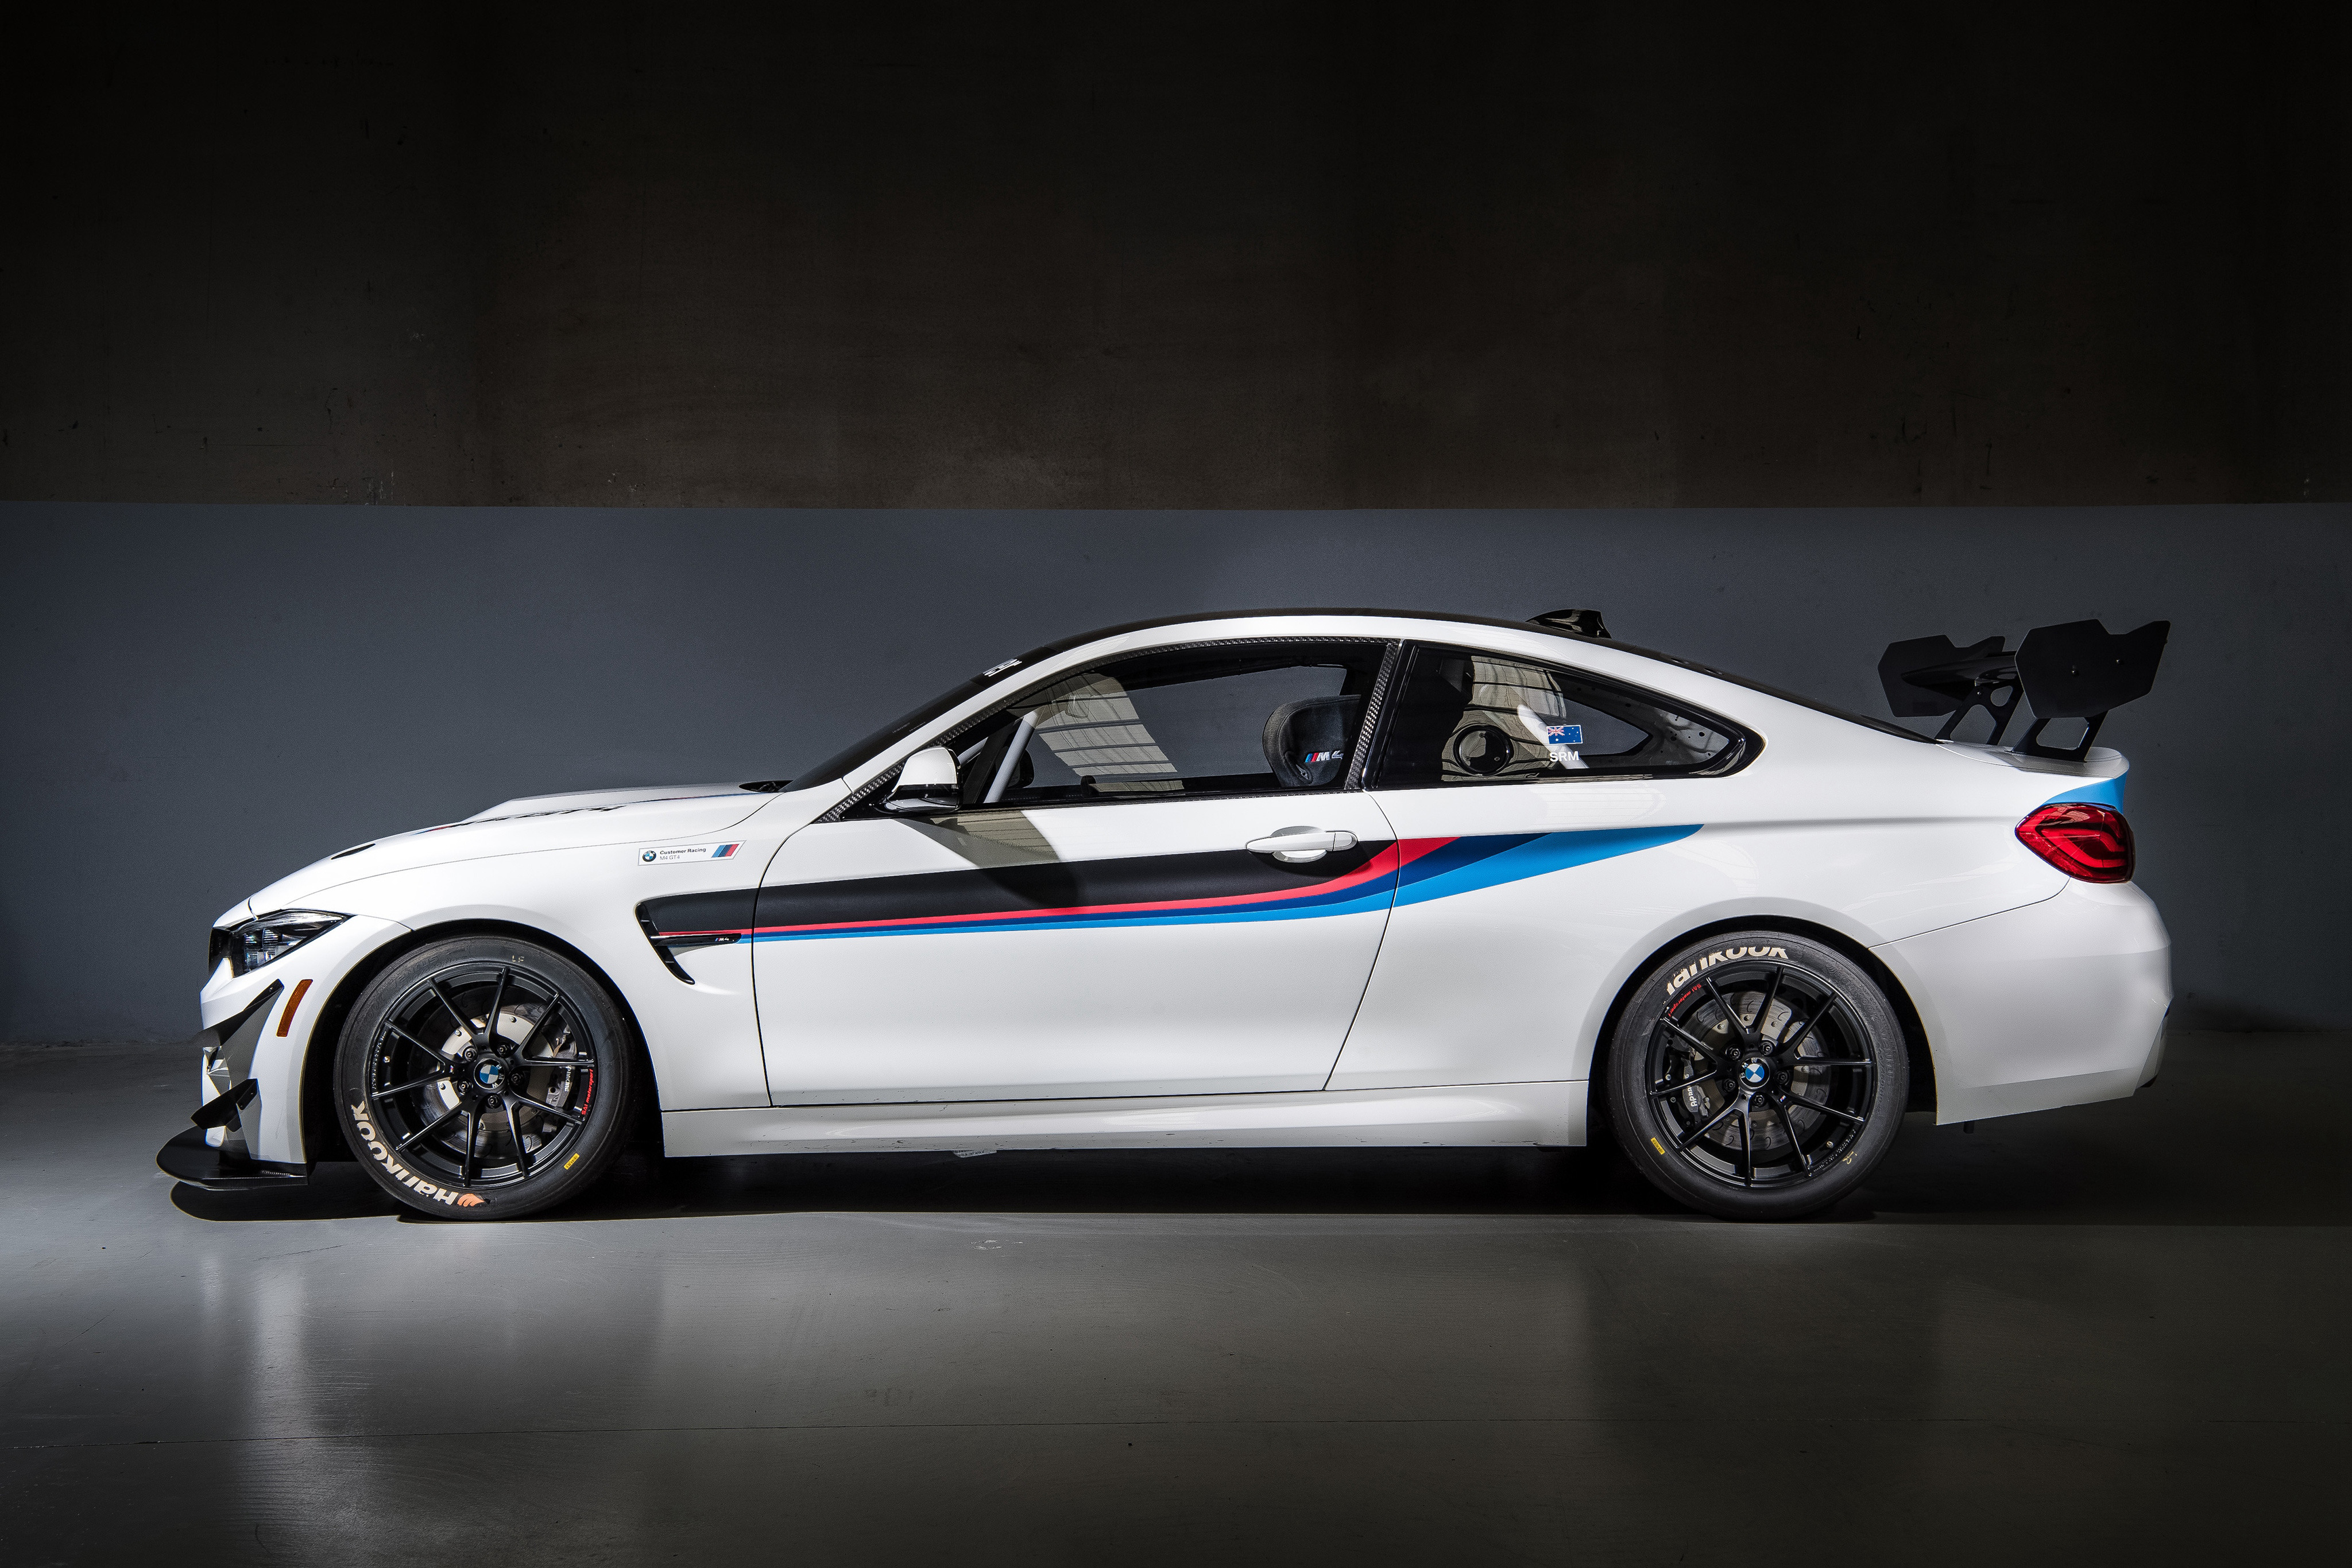mobil: (147, 595, 2186, 1228)
